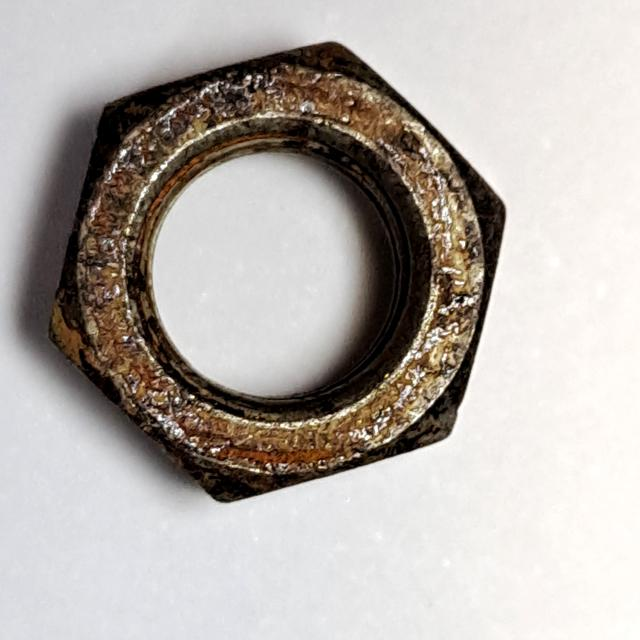Rust: (32, 27, 518, 516)
